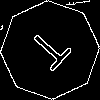T: (25, 25, 80, 79)
